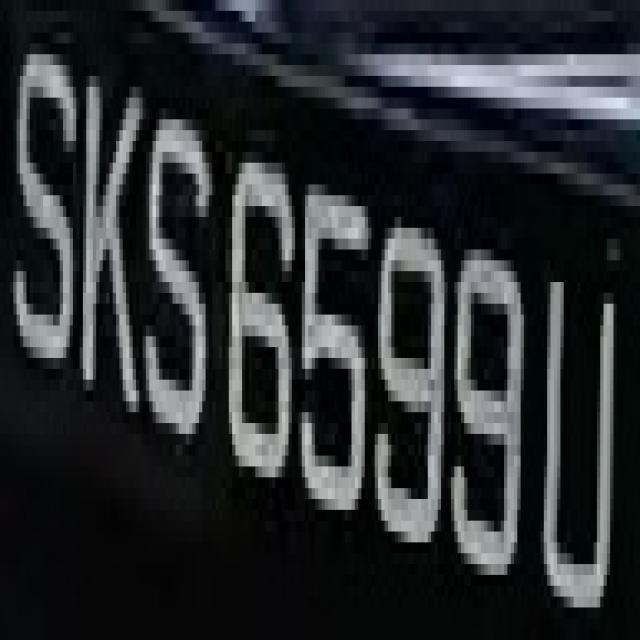5: (302, 141, 365, 542)
6: (225, 109, 292, 488)
9: (374, 163, 448, 575), (448, 228, 524, 596)
K: (83, 54, 139, 467)
S: (143, 65, 212, 445), (13, 32, 83, 369)
U: (527, 239, 617, 618)
